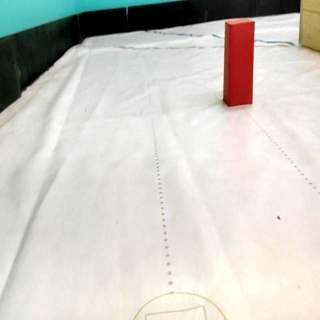redbox: (223, 18, 255, 108)
